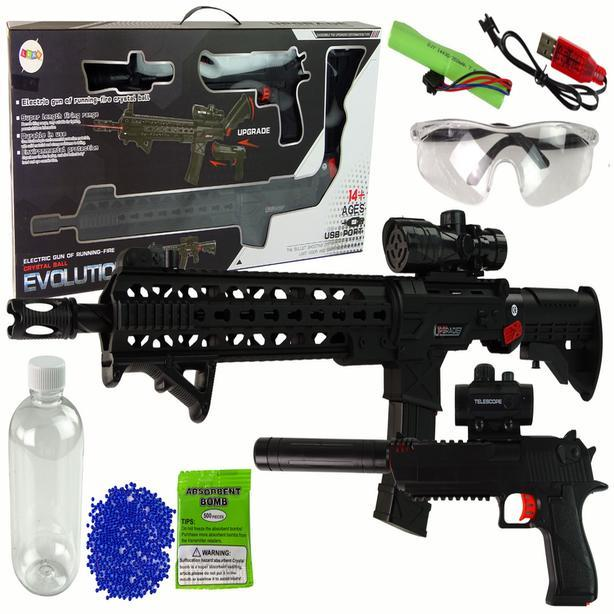Firearm: (4, 202, 614, 506), (243, 415, 614, 614)
